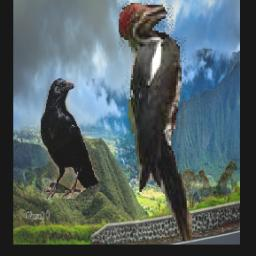Crow: (41, 78, 99, 199)
Woodpecker: (118, 1, 191, 242)
